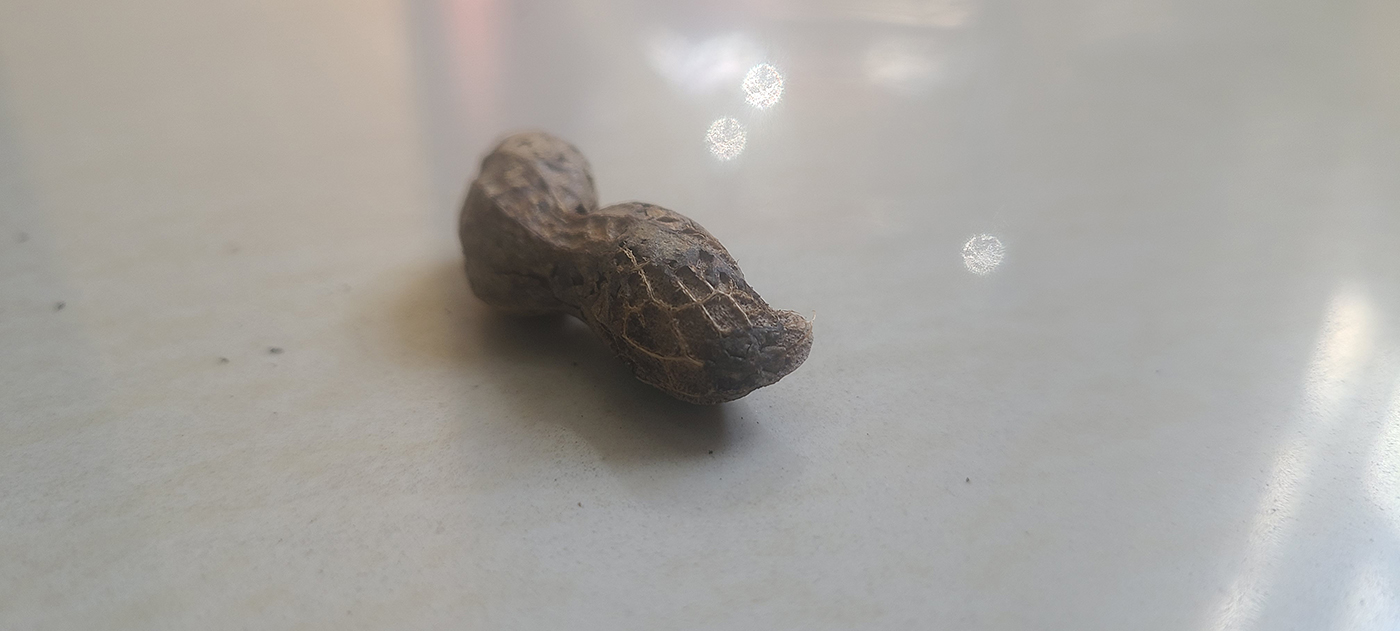l: (456, 129, 817, 402)
